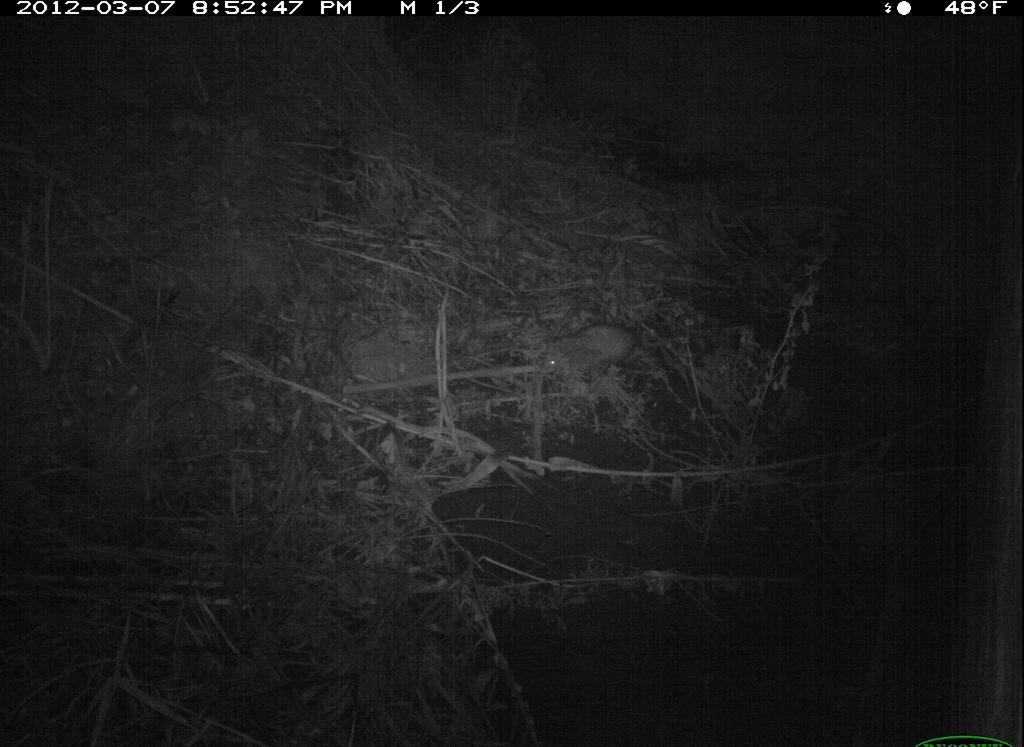opossum: (509, 301, 684, 406)
